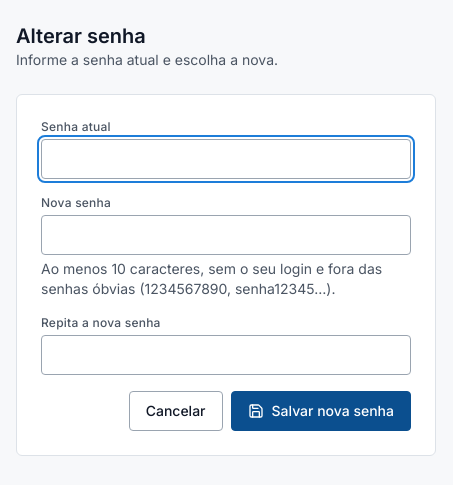
Test: TrocarSenha › confirmacao diferente nao envia
Type "atual1234" into the password field labelled "Senha atual" at (226, 159), box [41,139,411,179]
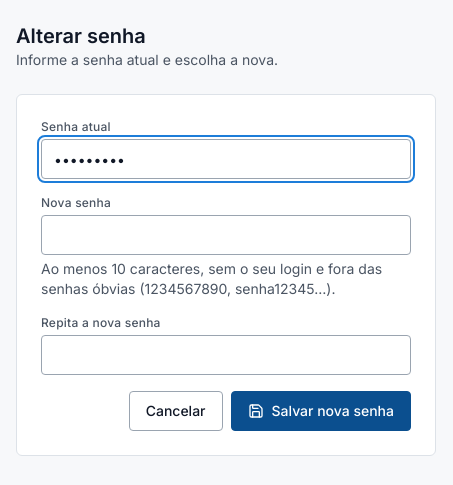
Type "novaSenha1" into the password field labelled "Nova senha" at (226, 235), box [41,215,411,255]
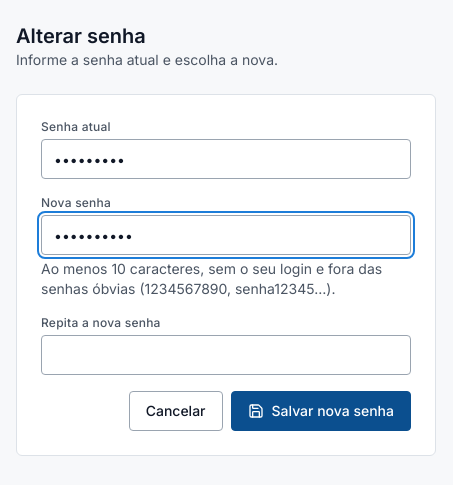
Type "outraSenha1" into the password field labelled "Repita a nova senha" at (226, 355), box [41,335,411,375]
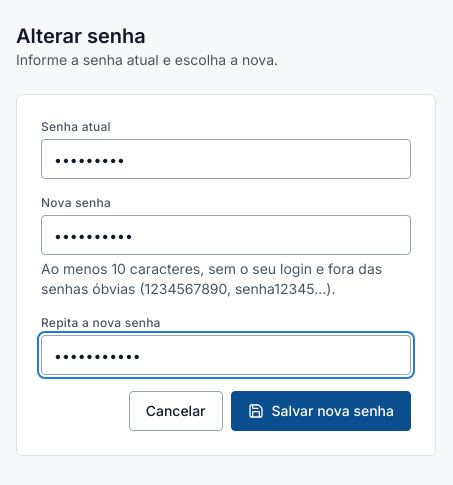
Click the button "Salvar nova senha" at (321, 411), box [230,391,411,431]
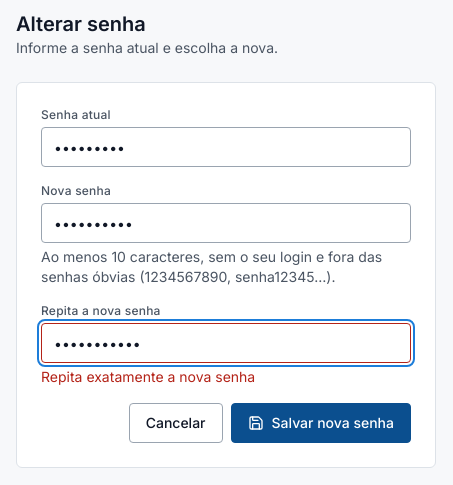
Now the text "Repita exatamente a nova senha" is shown, box [41,368,255,385]
